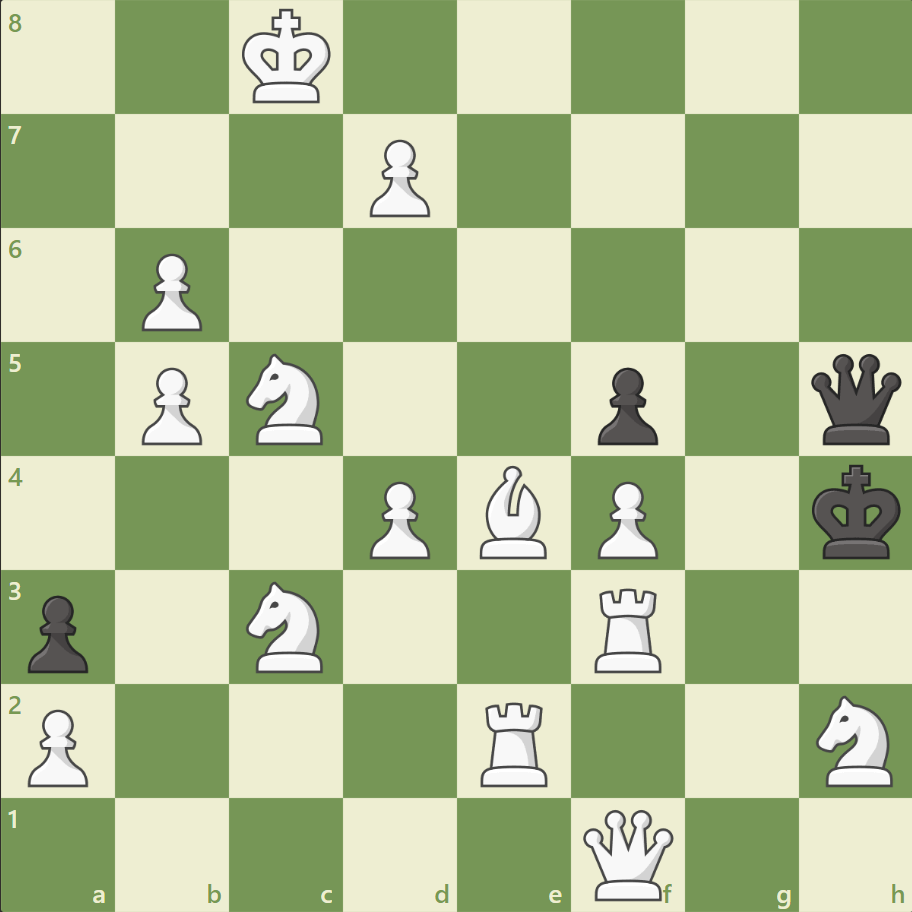B: (471, 460, 555, 563)
K: (238, 4, 338, 112)
N: (806, 688, 903, 791), (238, 348, 335, 450), (238, 575, 335, 677)
P: (133, 246, 208, 337), (133, 359, 208, 450), (20, 700, 95, 791), (361, 132, 435, 223), (361, 473, 435, 564), (588, 473, 662, 564)
Q: (578, 804, 677, 903)
R: (587, 579, 670, 676), (473, 693, 556, 790)
k: (806, 458, 906, 566)
p: (20, 586, 95, 677), (588, 359, 662, 450)
q: (805, 349, 904, 449)
